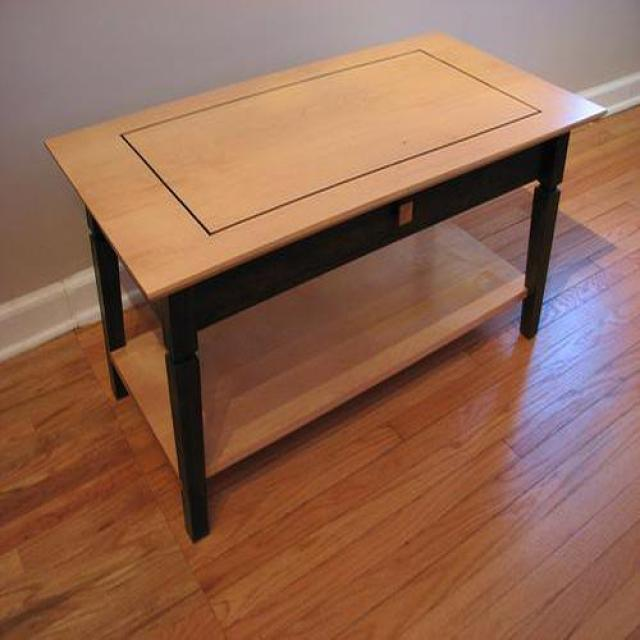table: (44, 33, 608, 544)
